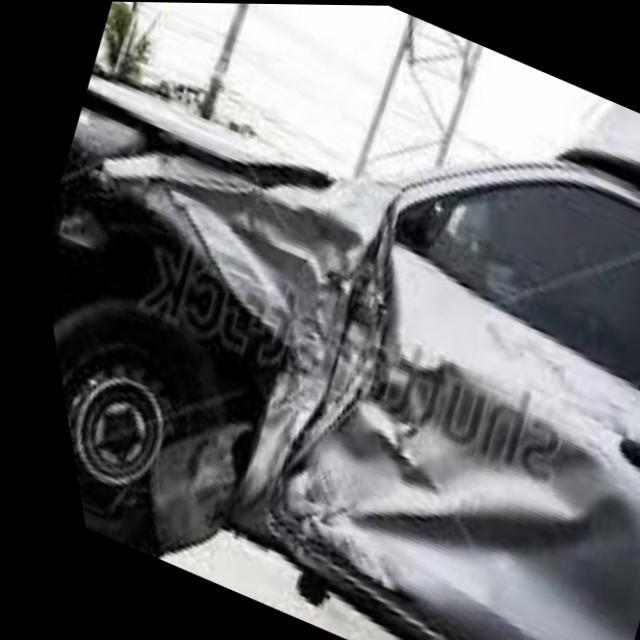dislocated part: (32, 76, 616, 594)
